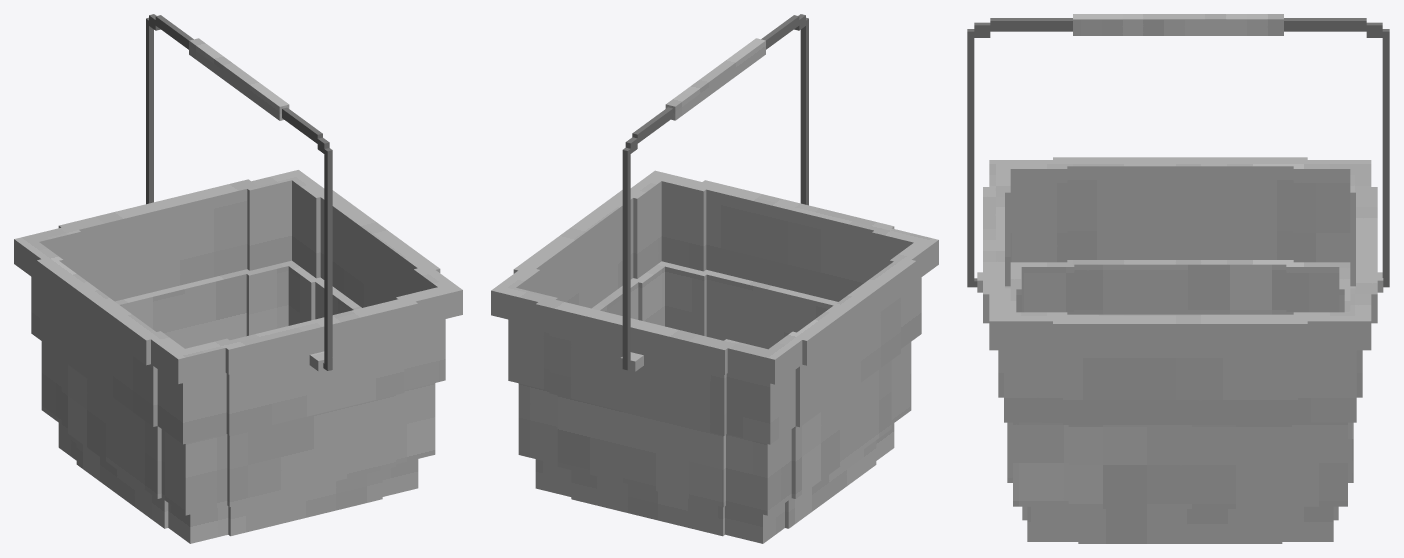
The model's file is Bucket.fbx.
3 renders of one model, left to right at view 1: azimuth 30°, elevation 25°; view 2: azimuth 150°, elevation 25°; view 3: azimuth 270°, elevation 25°, orthographic. The views are drawn at different scales.
Parts seen in each view (by area): view 1: Bucket, Bucket_Handel; view 2: Bucket, Bucket_Handel; view 3: Bucket, Bucket_Handel.
Boxes of the visible parts, box(x1,y1,x2,y2) form: Bucket: box(14, 170, 462, 543); Bucket_Handel: box(146, 14, 332, 370); Bucket: box(491, 170, 938, 543); Bucket_Handel: box(622, 14, 808, 370); Bucket: box(977, 157, 1383, 543); Bucket_Handel: box(967, 14, 1389, 287).
Size of the model in its own units: 25.91 by 33.68 by 27.74.
1 material, 1 textured.
